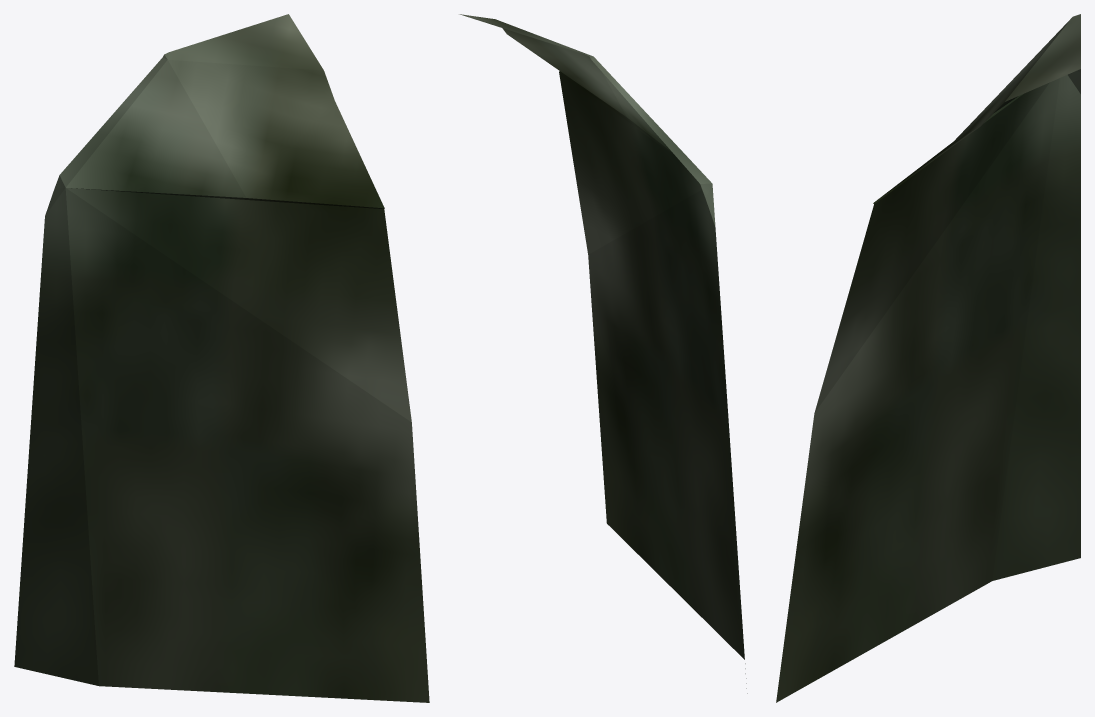
3 renders of one model, left to right at view 1: azimuth 30°, elevation 25°; view 2: azimuth 150°, elevation 25°; view 3: azimuth 270°, elevation 25°, orthographic. The views are drawn at different scales.
Size of the model in its own units: 0.2182 by 0.4453 by 0.194.
Materials: 1 (1 with a texture image).
